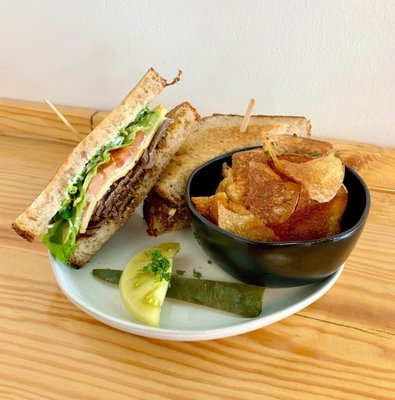soup: (10, 64, 190, 269)
sushi: (184, 130, 372, 284)
